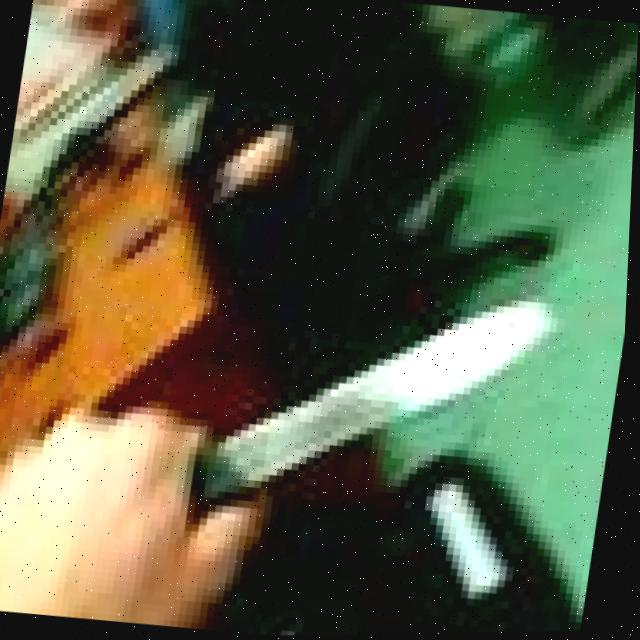knife: (194, 263, 567, 538)
